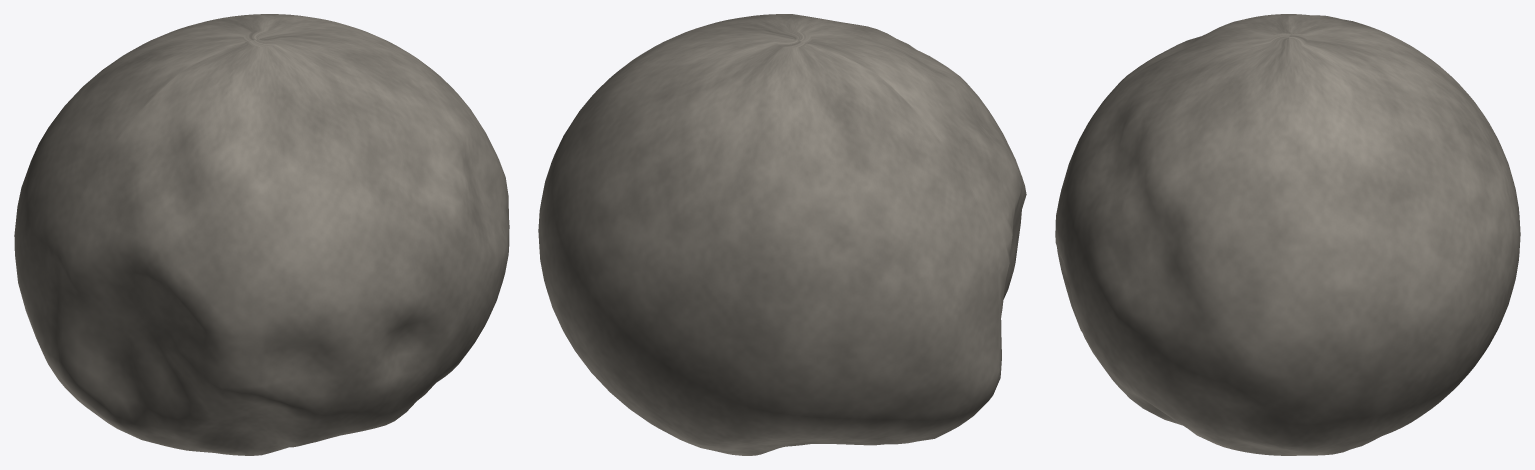
3 views of the same model, side by side, from view 1: azimuth 30°, elevation 25°; view 2: azimuth 150°, elevation 25°; view 3: azimuth 270°, elevation 25° (orthographic). The views are drawn at different scales.
Visible parts, largest first — view 1: Larissa; view 2: Larissa; view 3: Larissa.
Boxes of the visible parts, box(x1,y1,x2,y2) form: Larissa: box(14, 14, 509, 455); Larissa: box(538, 14, 1026, 455); Larissa: box(1055, 14, 1520, 455).
Bounding box in the file's own units: 201 × 178 × 193.
Materials: 1 (1 with a texture image).
